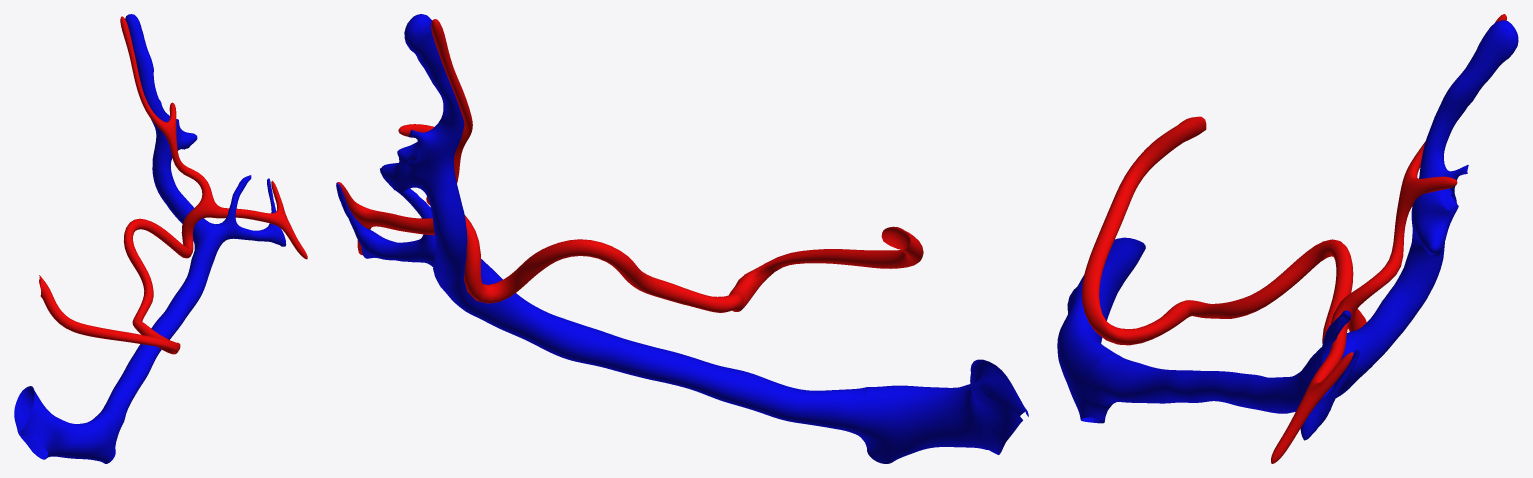
The model's file is VH_F_Blood_Vasculature_Spleen.fbx.
3 views of the same model, side by side, from view 1: azimuth 30°, elevation 25°; view 2: azimuth 150°, elevation 25°; view 3: azimuth 270°, elevation 25° (orthographic). The views are drawn at different scales.
Visible parts, largest first — view 1: VH_F_splenic_vein, VH_F_splenic_artery; view 2: VH_F_splenic_vein, VH_F_splenic_artery; view 3: VH_F_splenic_vein, VH_F_splenic_artery.
Boxes of the visible parts, x1,y1,x2,y2 form: VH_F_splenic_vein: (14, 14, 286, 463); VH_F_splenic_artery: (39, 16, 307, 354); VH_F_splenic_vein: (336, 14, 1028, 463); VH_F_splenic_artery: (337, 19, 923, 312); VH_F_splenic_vein: (1057, 20, 1518, 440); VH_F_splenic_artery: (1081, 14, 1506, 463).
Bounding box in the file's own units: 11.25 × 10.07 × 8.04.
